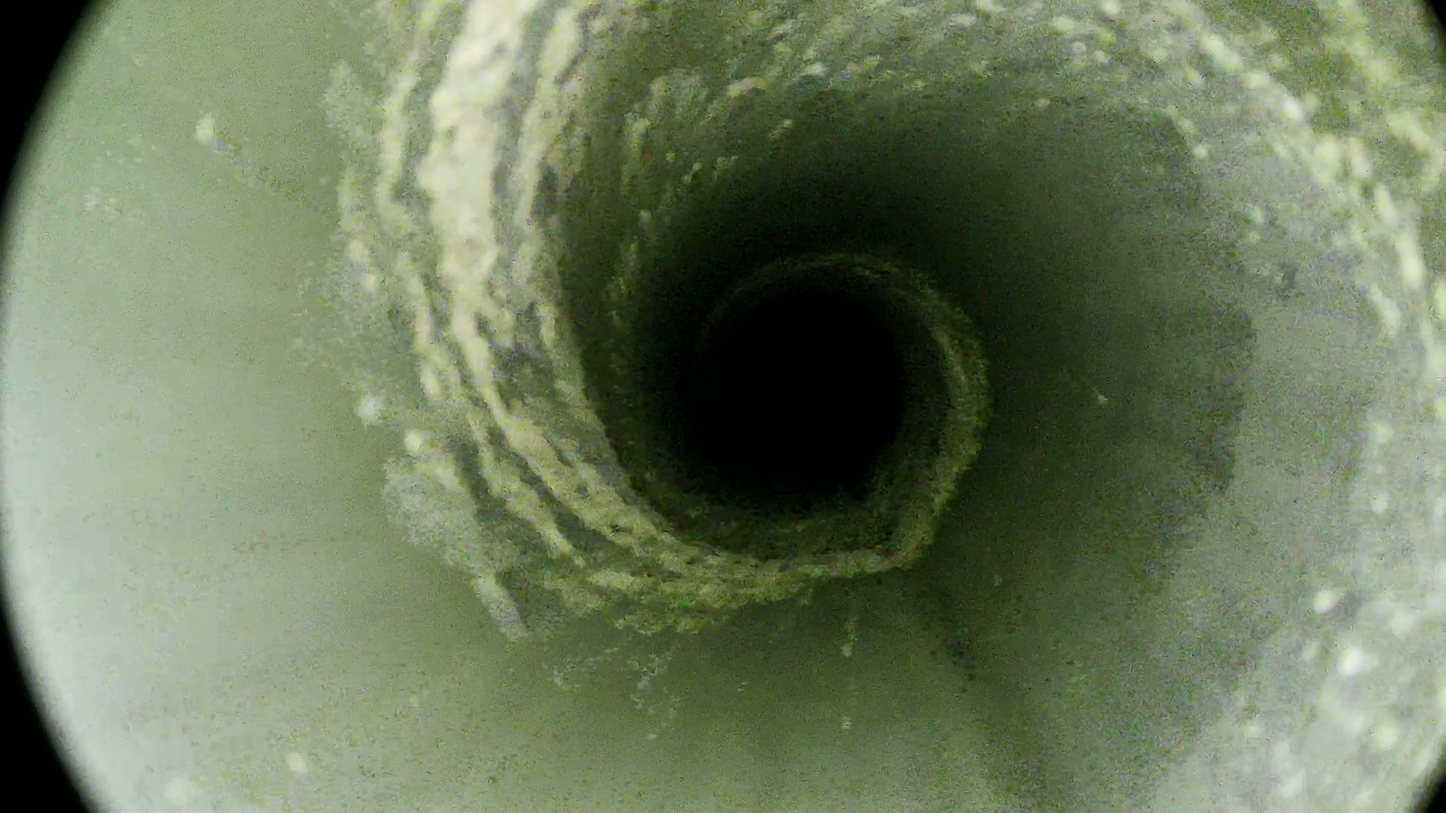hole: (710, 295, 902, 483)
